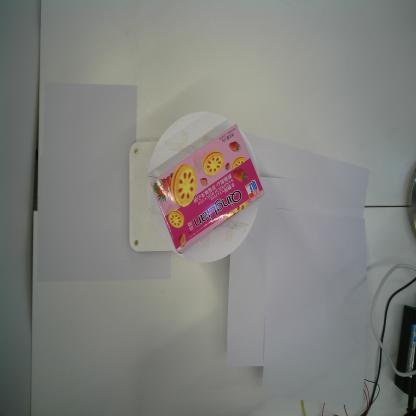Dessert: (150, 124, 265, 254)
